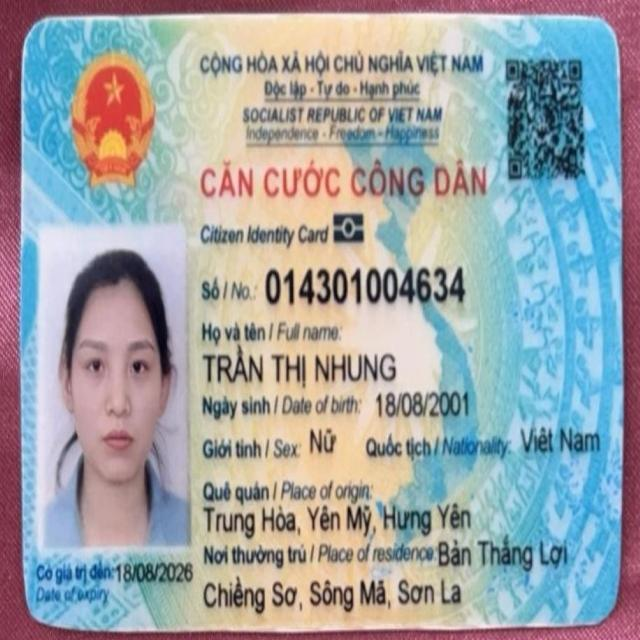current_place: (200, 570, 471, 616), (436, 532, 572, 576)
dob: (375, 387, 474, 420)
expire_date: (112, 555, 198, 587)
gender: (306, 421, 340, 462)
id: (262, 263, 467, 311)
name: (199, 344, 397, 393)
nationality: (519, 420, 602, 460)
origin_place: (203, 502, 477, 539)
